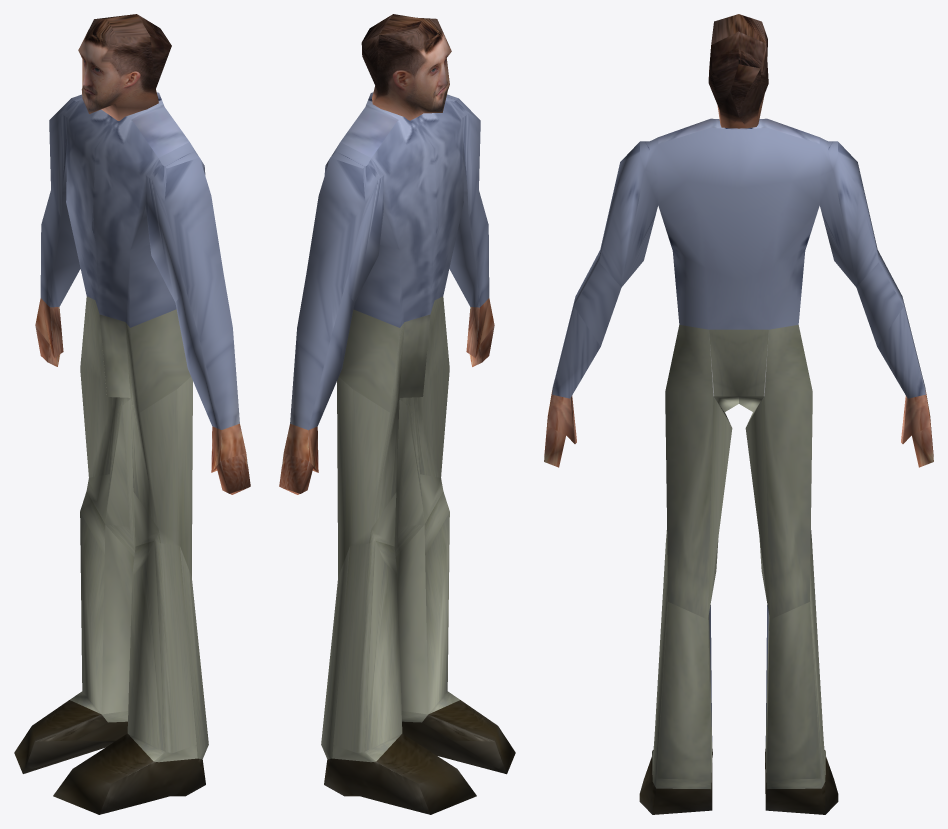
File: man5.fbx
3 renders of one model, left to right at view 1: azimuth 30°, elevation 25°; view 2: azimuth 150°, elevation 25°; view 3: azimuth 270°, elevation 25°, orthographic. The views are drawn at different scales.
Parts seen in each view (by area): view 1: man5; view 2: man5; view 3: man5.
Part boxes in pixels (bbox=[...]): man5: bbox=[14, 14, 250, 814]; man5: bbox=[279, 14, 515, 814]; man5: bbox=[544, 14, 933, 814].
Size of the model in its own units: 34.73 by 186 by 84.77.
Materials: 2 (2 with a texture image).
